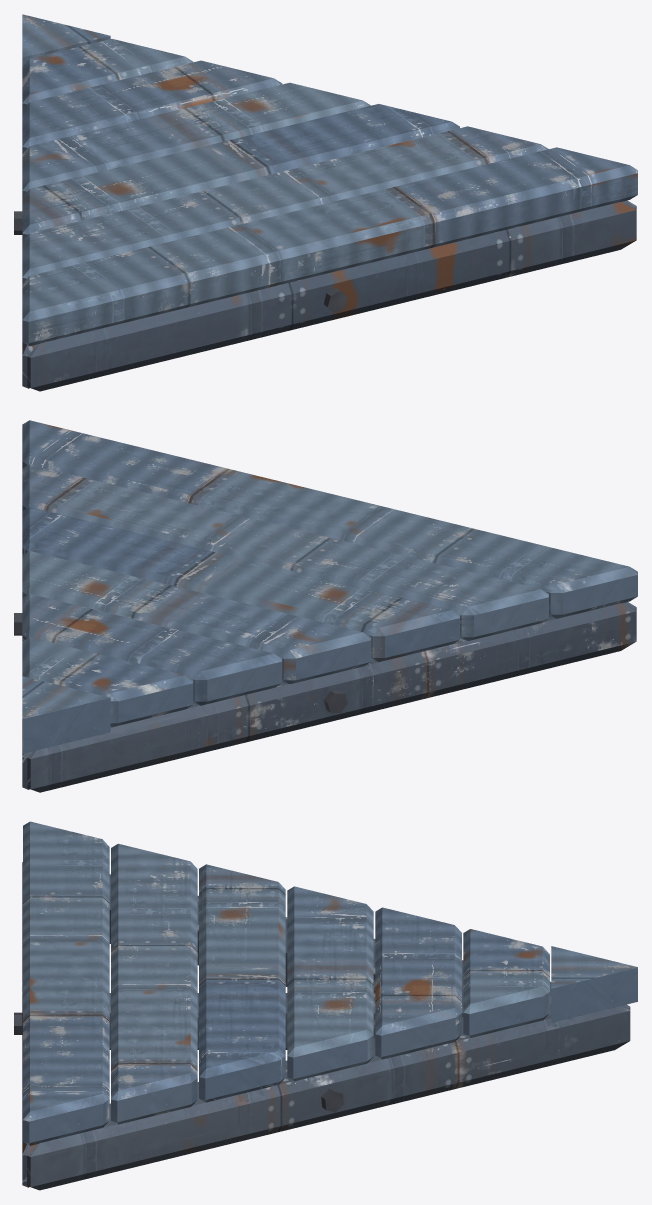
Rendered from ucgen_zemin.glb.
The picture shows the model from 3 angles, top to bottom: view 1: azimuth 30°, elevation 25°; view 2: azimuth 150°, elevation 25°; view 3: azimuth 270°, elevation 25°; orthographic projection.
Visible parts, largest first — view 1: ucgen_zemin; view 2: ucgen_zemin; view 3: ucgen_zemin.
Boxes of the visible parts, x1,y1,x2,y2 form: ucgen_zemin: (14,14,637,391); ucgen_zemin: (14,420,637,792); ucgen_zemin: (14,821,637,1190).
Bounding box in the file's own units: 2.97 × 0.377 × 2.63.
1 material, 1 textured.
